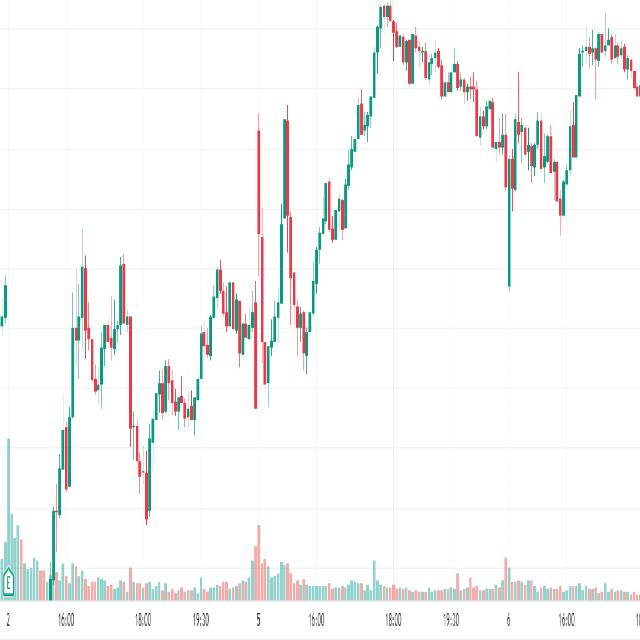Double-Bottom: (250, 95, 330, 412)
Double-Top: (51, 225, 154, 535)
Head-Shoulders: (307, 0, 571, 375)
